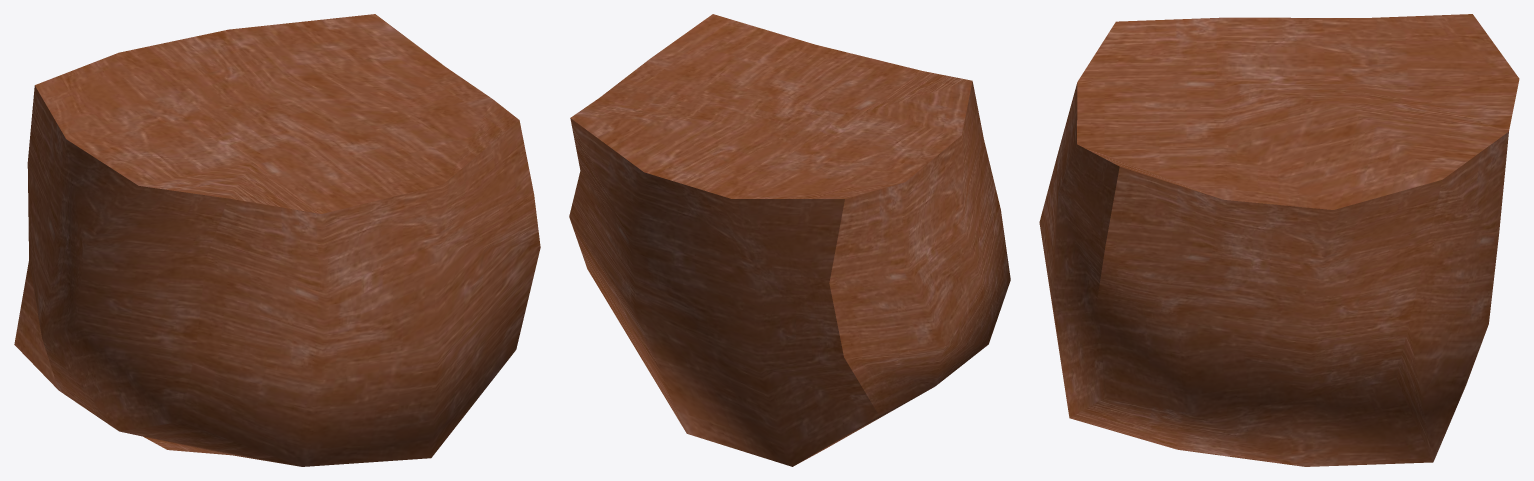
Rendered from Canyon_Rock_Platforms_1.glb.
3 renders of one model, left to right at view 1: azimuth 30°, elevation 25°; view 2: azimuth 150°, elevation 25°; view 3: azimuth 270°, elevation 25°, orthographic. The views are drawn at different scales.
Parts seen in each view (by area): view 1: Canyon_Rock_Platforms_1_0; view 2: Canyon_Rock_Platforms_1_0; view 3: Canyon_Rock_Platforms_1_0.
Part boxes in pixels (x1,y1,x2,y2): Canyon_Rock_Platforms_1_0: [14, 14, 540, 466]; Canyon_Rock_Platforms_1_0: [569, 14, 1010, 466]; Canyon_Rock_Platforms_1_0: [1039, 14, 1519, 466].
Bounding box in the file's own units: 4.58 × 3.72 × 4.35.
Materials: 1 (1 with a texture image).
